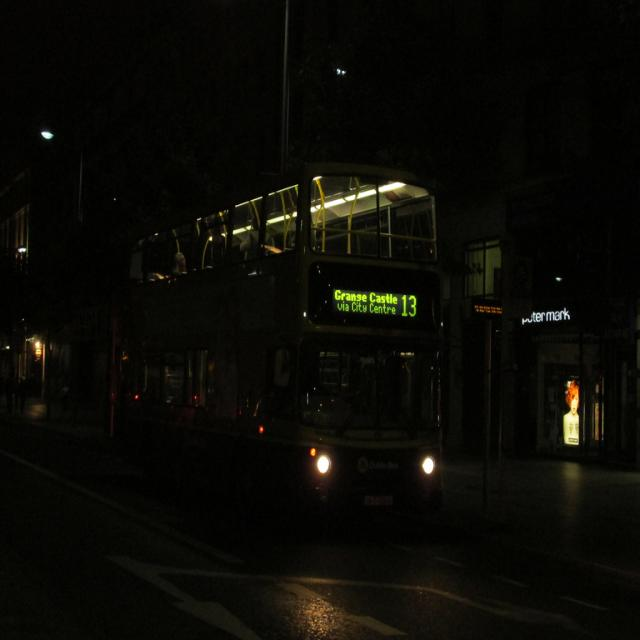Bus: (115, 184, 479, 571)
